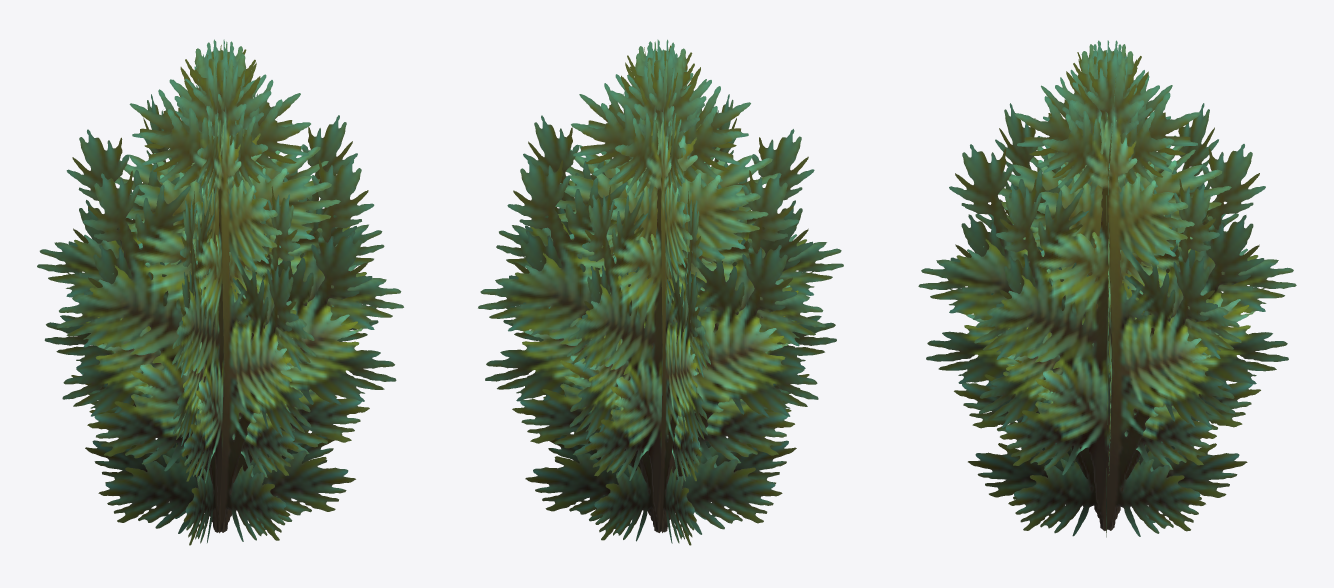
The model's file is painted-pine-4.glb.
3 renders of one model, left to right at view 1: azimuth 30°, elevation 25°; view 2: azimuth 150°, elevation 25°; view 3: azimuth 270°, elevation 25°, orthographic.
Size of the model in its own units: 7.6 by 10.32 by 7.6.
Materials: 1 (1 with a texture image).
